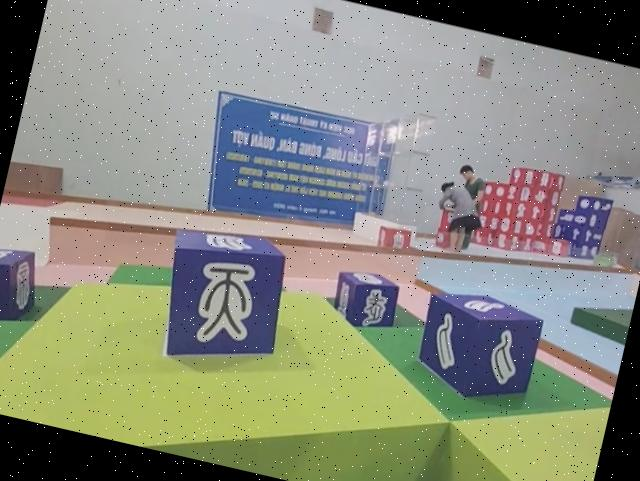R2 Fake Blue: (145, 218, 296, 381), (325, 264, 401, 334), (0, 239, 43, 336)
R2 Real Blue: (411, 282, 548, 410)
